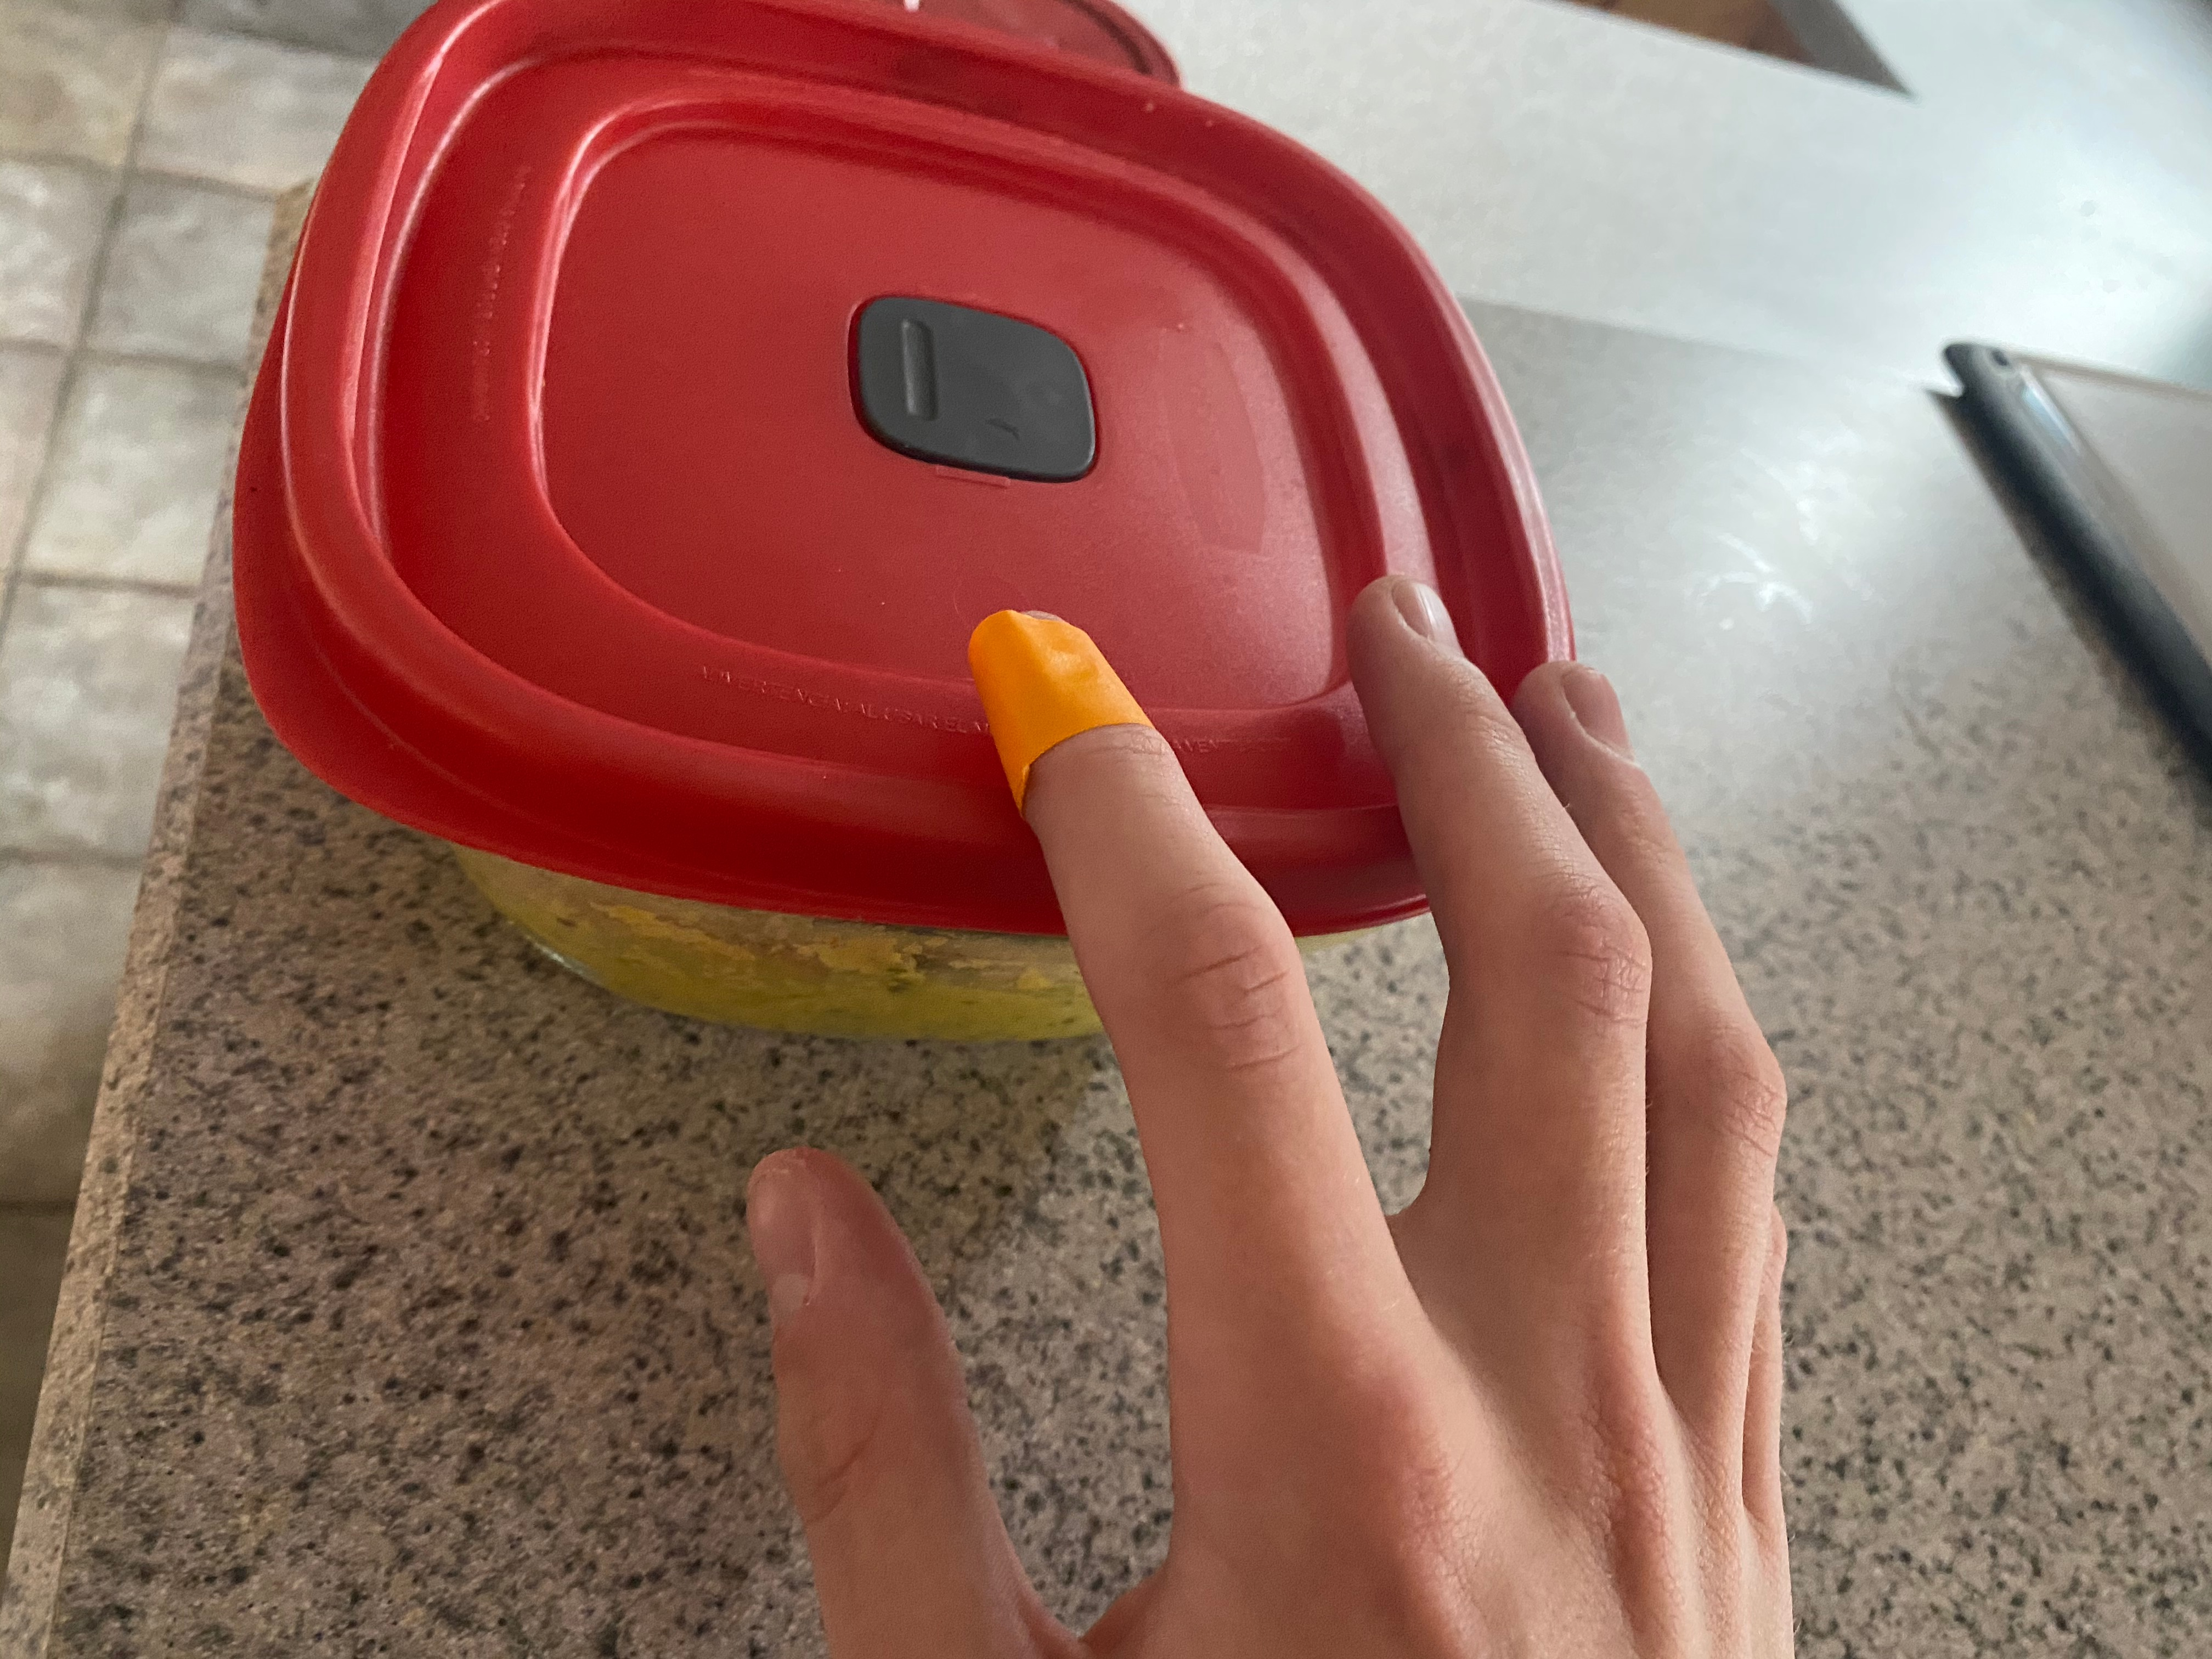fingertip: (941, 573, 1174, 824)
